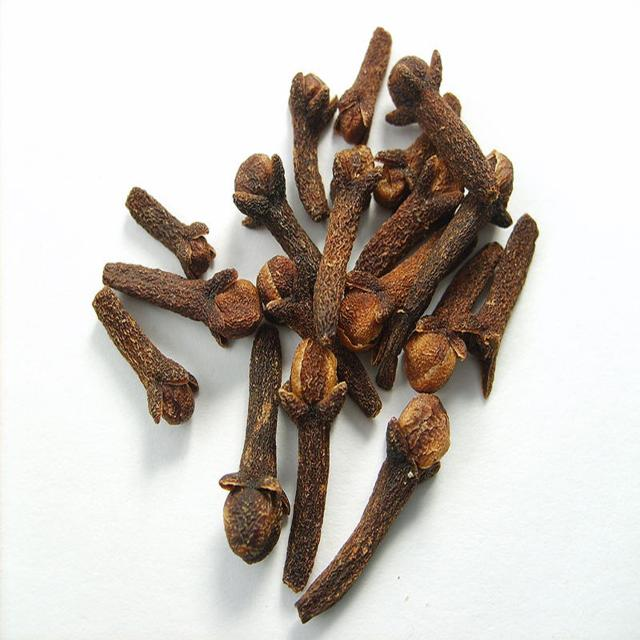clove: (94, 30, 538, 621)
